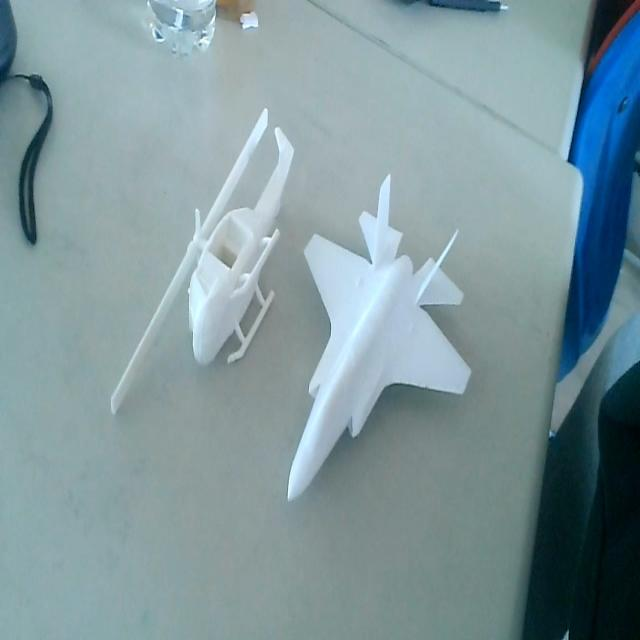Helicopter: (102, 109, 296, 417)
Jet: (284, 167, 474, 508)
